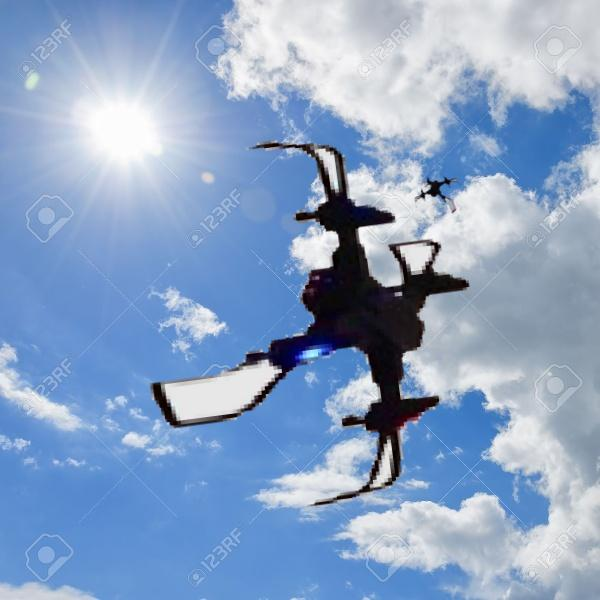drone: (112, 127, 493, 508), (413, 172, 465, 224)
